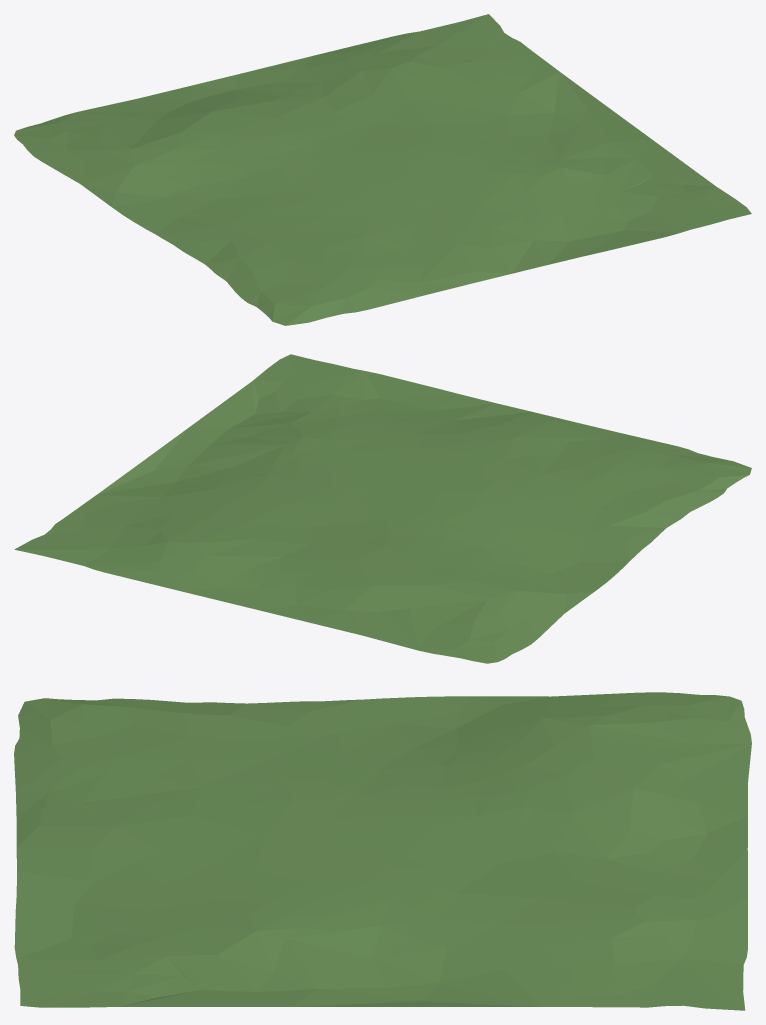
Rendered from ground_03.glb.
3 views of the same model, one above another, from view 1: azimuth 30°, elevation 25°; view 2: azimuth 150°, elevation 25°; view 3: azimuth 270°, elevation 25° (orthographic). The views are drawn at different scales.
Visible parts, largest first — view 1: Ground_03; view 2: Ground_03; view 3: Ground_03.
Boxes of the visible parts, left/top/right/bottom form: Ground_03: left=14, top=14, right=751, bottom=325; Ground_03: left=14, top=354, right=751, bottom=663; Ground_03: left=14, top=692, right=751, bottom=1010.
Size of the model in its own units: 30.54 by 0.9225 by 29.9.
1 material, 1 textured.
